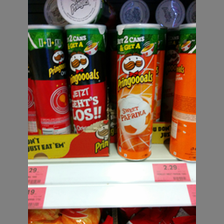chips: (116, 22, 162, 162), (64, 24, 110, 134), (28, 24, 70, 135), (168, 23, 196, 162)
